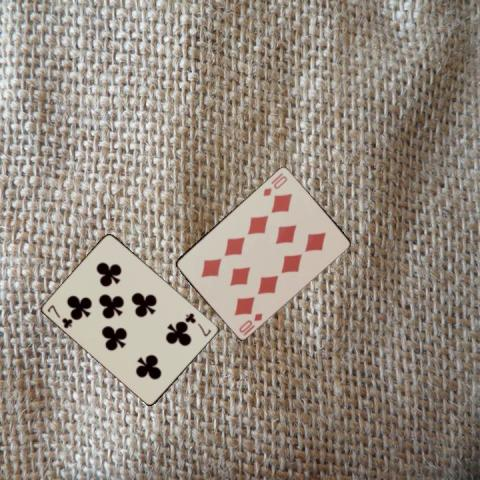10d: (236, 310, 264, 337), (260, 173, 289, 197)
7c: (182, 310, 212, 338), (45, 302, 74, 330)
